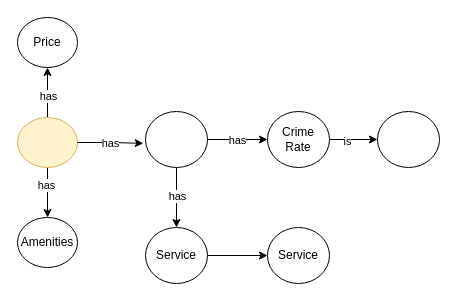
The diagram is 457 pixels wide and 301 high, and some of its shapes have lost their labels. Each missing label, with the box of its shape:
High Med Low: (376, 110, 440, 168)
Location: (144, 110, 208, 168)
Property: (16, 116, 78, 168)
